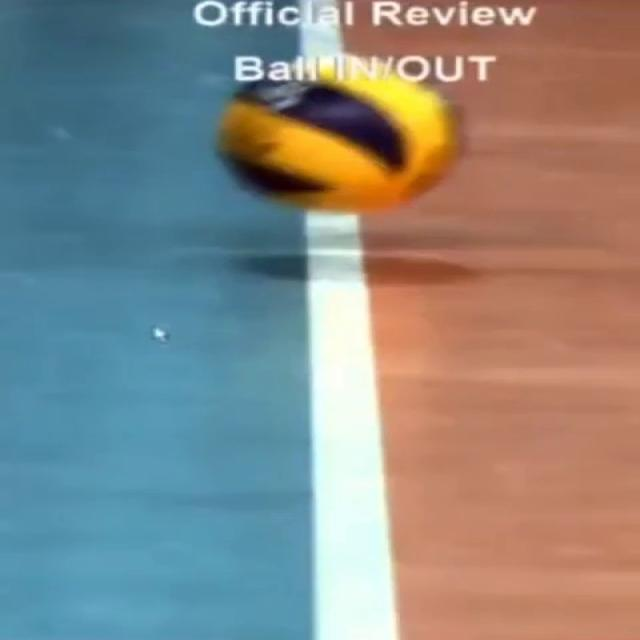Volleyball: (222, 55, 461, 211)
